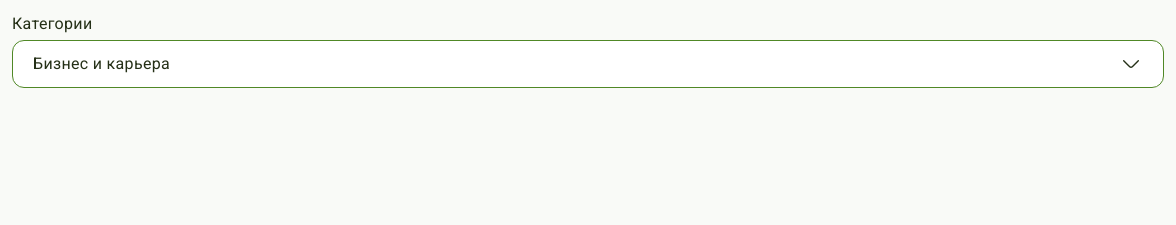
Test case: MultiSelect › отмечает несколько пунктов и снимает один из них, оставляя список открытым
The image size is (1176, 225).
Click the button named "Категории" at (102,64), box left=12, top=40, right=1164, bottom=88
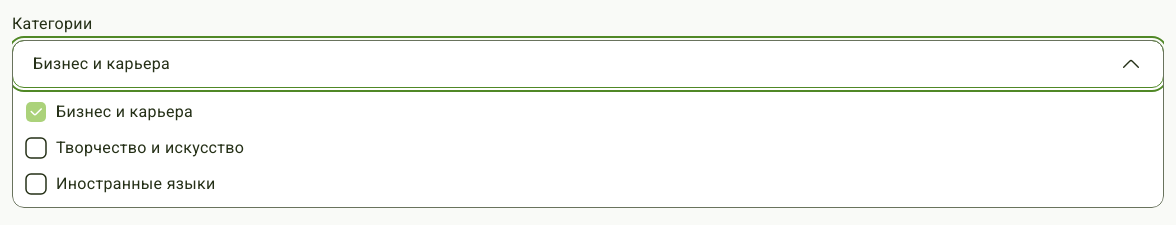
expect the checkbox labelled "Бизнес и карьера" is checked: met, box left=24, top=100, right=193, bottom=124
Click the checkbox labelled "Творчество и искусство" at (134,148), box left=24, top=136, right=244, bottom=160
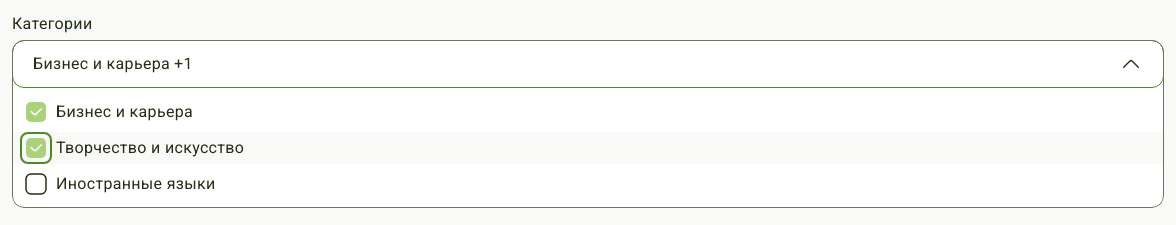
expect the checkbox labelled "Творчество и искусство" is checked: met, box left=24, top=136, right=244, bottom=160
Click the checkbox labelled "Бизнес и карьера" at (108,112), box left=24, top=100, right=193, bottom=124
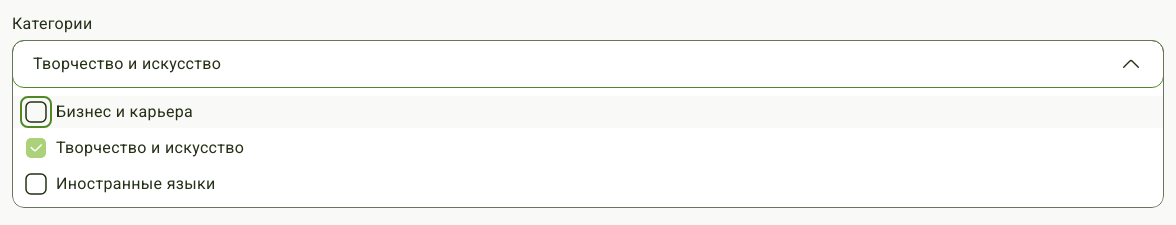
expect the checkbox labelled "Бизнес и карьера" is not checked: met, box left=24, top=100, right=193, bottom=124
expect the button named "Категории" is expanded: met, box left=12, top=40, right=1164, bottom=88
expect the button named "Категории" reads "Творчество и искусство": met, box left=12, top=40, right=1164, bottom=88
